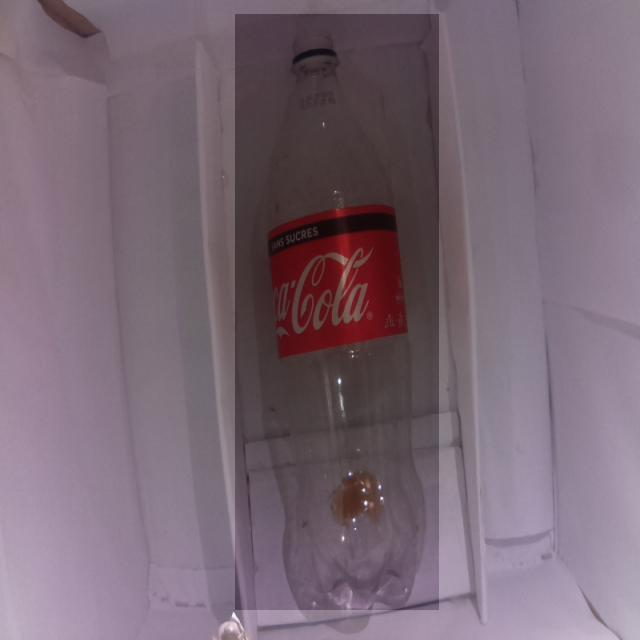bottle: (235, 14, 439, 610)
label: (248, 223, 418, 346)
